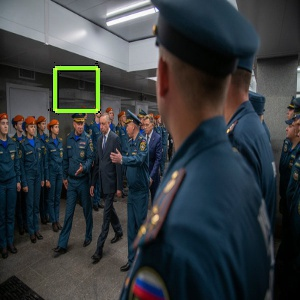square: (52, 65, 101, 114)
